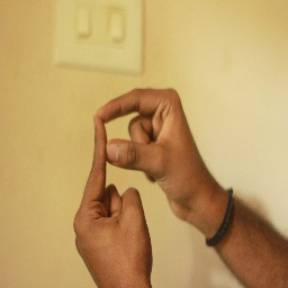P: (70, 80, 191, 245)
